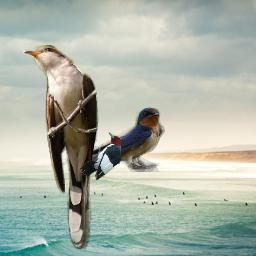Cuckoo: (23, 45, 99, 249)
Swallow: (50, 106, 165, 172)
Woodpecker: (79, 132, 121, 180)
